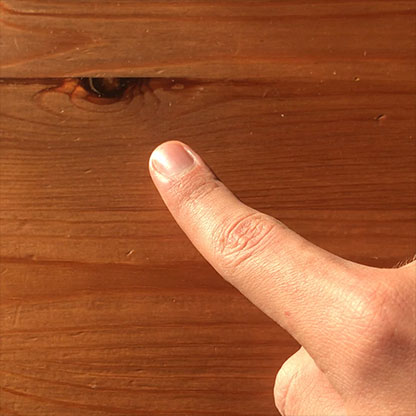fingertip: (138, 132, 210, 197)
